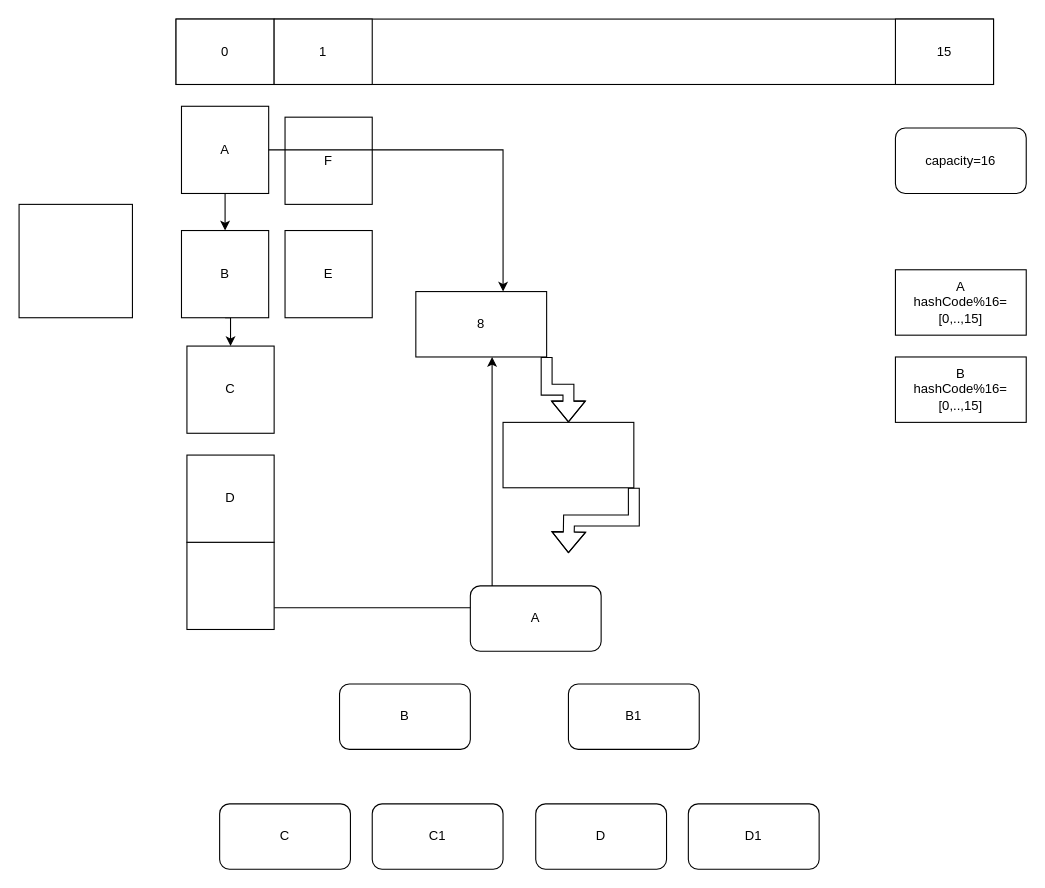
The diagram is 1045 pixels wide and 888 high, and some of its shapes have lost their labels. Each missing label, with the centre of its shape:
"A.EQUALS(B) not" goes at (x=75, y=260).
"a100" goes at (x=230, y=585).
"binary tree" goes at (x=568, y=454).
